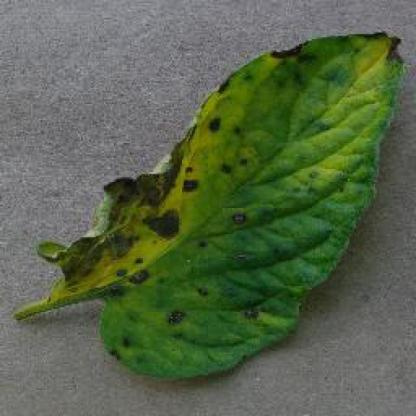Tomato_Blight: (41, 32, 397, 377)
